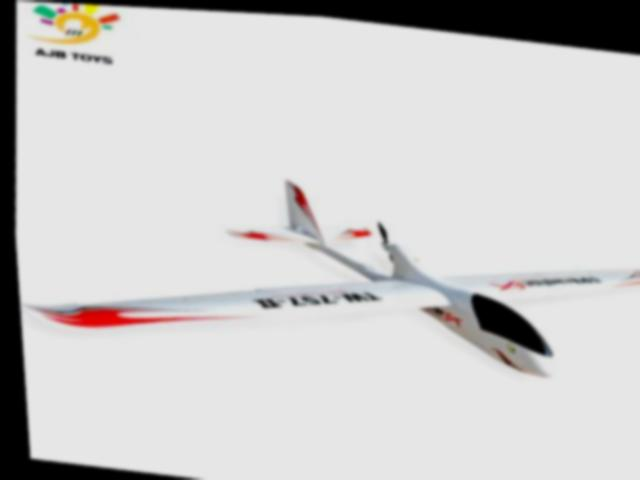uav: (7, 139, 640, 426)
